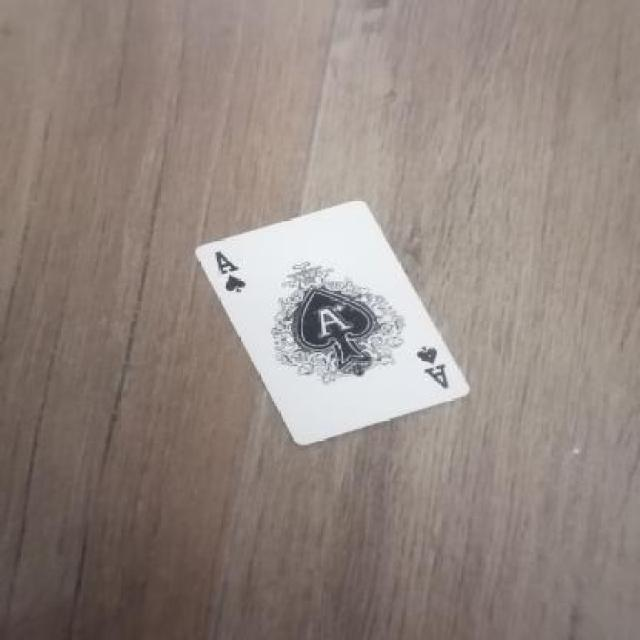AS: (408, 342, 454, 398), (208, 247, 247, 302)
